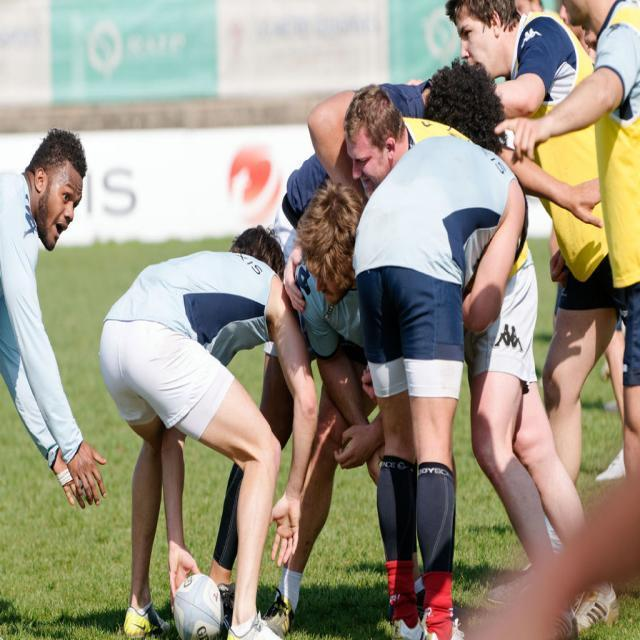football: (157, 535, 249, 640)
